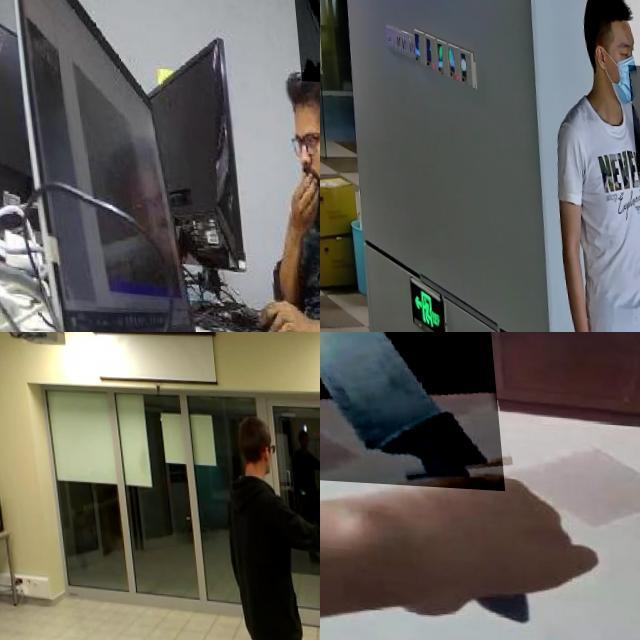-: (320, 332, 498, 486), (285, 0, 320, 81)
gun-knife-thesis - v11 Yolov5 augmented: (623, 60, 640, 170)
